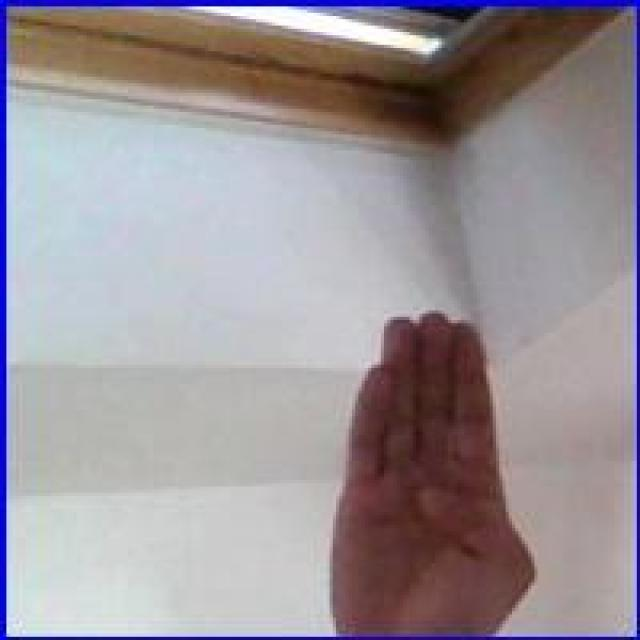B: (328, 310, 546, 628)
